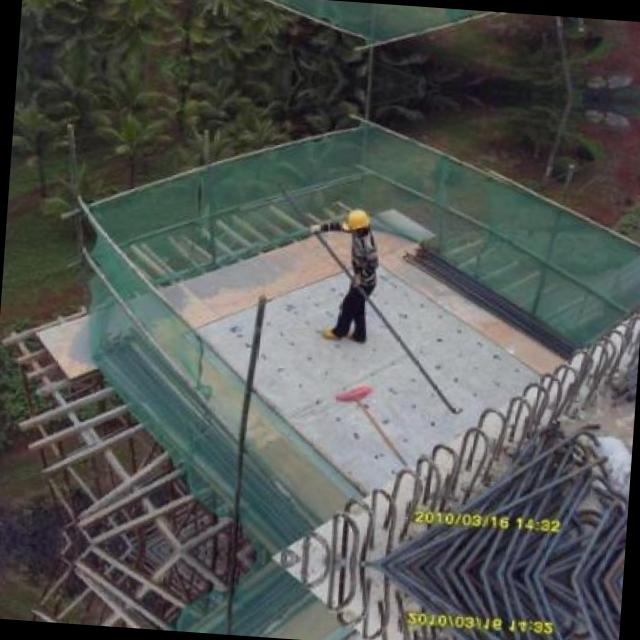helmet: (342, 207, 373, 241)
